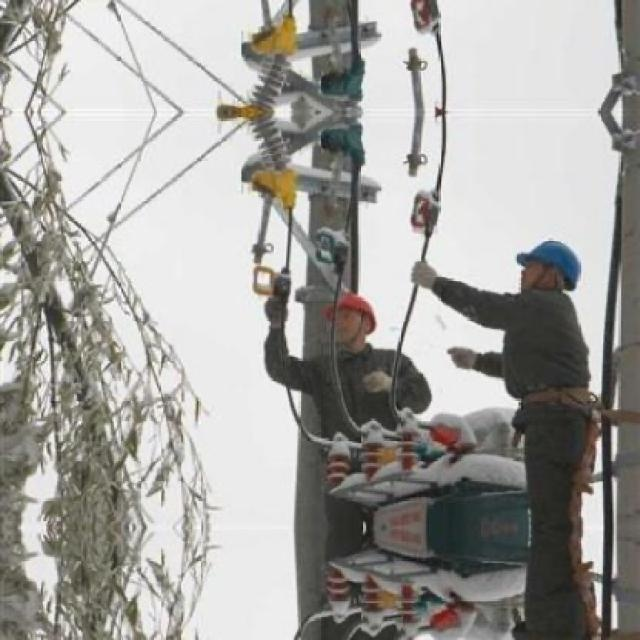Arnes_seguridad: (520, 387, 595, 408)
